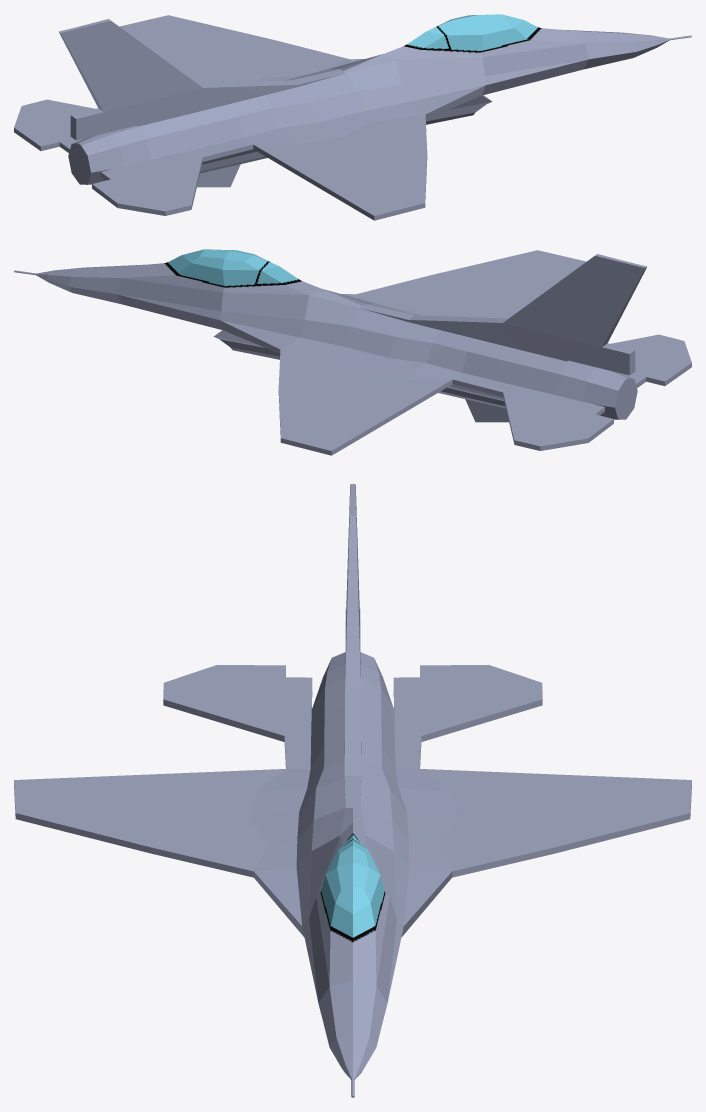
File: player.glb
The picture shows the model from 3 angles, top to bottom: view 1: azimuth 30°, elevation 25°; view 2: azimuth 150°, elevation 25°; view 3: azimuth 270°, elevation 25°; orthographic projection. The views are drawn at different scales.
Visible parts, largest first — view 1: Cylinder; view 2: Cylinder; view 3: Cylinder.
Part boxes in pixels (x1,y1,x2,y2): Cylinder: [14, 14, 691, 220]; Cylinder: [14, 249, 691, 455]; Cylinder: [14, 484, 691, 1097].
Size of the model in its own units: 11.15 by 3.31 by 7.89.
1 material, 1 textured.
